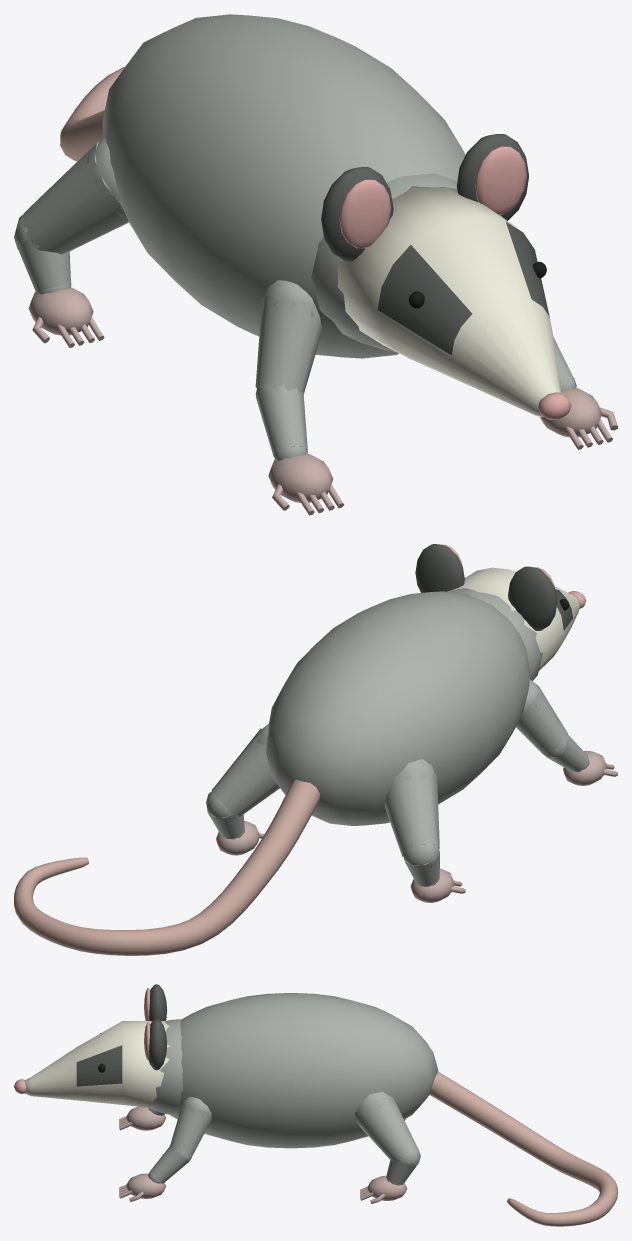
File: opossum.glb
The picture shows the model from 3 angles, top to bottom: view 1: azimuth 30°, elevation 25°; view 2: azimuth 150°, elevation 25°; view 3: azimuth 270°, elevation 25°; orthographic projection. The views are drawn at different scales.
Parts seen in each view (by area): view 1: Opossum_Long_Gray_Body, Opossum_Closed_Pointed_Pale_Head, Opossum_Rear_Leg_-1_Segment_0, Opossum_Front_Leg_-1_Segment_0, Opossum_Connected_Gray_Neck, Opossum_Pink_Inner_Ear_-1, Opossum_Pink_Inner_Ear_1, Opossum_Front_Leg_-1_Segment_1, Opossum_Long_Bare_Curved_Tail, Opossum_Dark_Round_Ear_-1, Opossum_Front_Paw_-1_Palm, Opossum_Rear_Paw_-1_Palm (+6 smaller); view 2: Opossum_Long_Gray_Body, Opossum_Long_Bare_Curved_Tail, Opossum_Rear_Leg_-1_Segment_0, Opossum_Rear_Leg_1_Segment_0, Opossum_Closed_Pointed_Pale_Head, Opossum_Dark_Round_Ear_-1, Opossum_Dark_Round_Ear_1, Opossum_Front_Leg_-1_Segment_0, Opossum_Connected_Gray_Neck, Opossum_Rear_Paw_1_Palm, Opossum_Rear_Paw_-1_Palm, Opossum_Front_Paw_-1_Palm (+4 smaller); view 3: Opossum_Long_Gray_Body, Opossum_Closed_Pointed_Pale_Head, Opossum_Long_Bare_Curved_Tail, Opossum_Rear_Leg_1_Segment_0, Opossum_Connected_Gray_Neck, Opossum_Front_Leg_1_Segment_0, Opossum_Dark_Round_Ear_1, Opossum_Front_Leg_1_Segment_1, Opossum_Front_Paw_-1_Palm, Opossum_Front_Paw_1_Palm, Opossum_Rear_Paw_1_Palm, Opossum_Dark_Round_Ear_-1 (+2 smaller).
Part boxes in pixels (x1=…): Opossum_Long_Gray_Body: x1=102, y1=14, x2=465, y2=358; Opossum_Closed_Pointed_Pale_Head: x1=337, y1=186, x2=561, y2=416; Opossum_Rear_Leg_-1_Segment_0: x1=22, y1=142, x2=128, y2=254; Opossum_Front_Leg_-1_Segment_0: x1=255, y1=296, x2=322, y2=394; Opossum_Connected_Gray_Neck: x1=311, y1=173, x2=457, y2=351; Opossum_Pink_Inner_Ear_-1: x1=339, y1=179, x2=391, y2=248; Opossum_Pink_Inner_Ear_1: x1=475, y1=146, x2=526, y2=215; Opossum_Front_Leg_-1_Segment_1: x1=256, y1=384, x2=307, y2=456; Opossum_Long_Bare_Curved_Tail: x1=60, y1=67, x2=124, y2=161; Opossum_Dark_Round_Ear_-1: x1=321, y1=167, x2=393, y2=261; Opossum_Front_Paw_-1_Palm: x1=268, y1=453, x2=333, y2=502; Opossum_Rear_Paw_-1_Palm: x1=28, y1=287, x2=93, y2=335; Opossum_Long_Gray_Body: x1=266, y1=591, x2=530, y2=825; Opossum_Long_Bare_Curved_Tail: x1=14, y1=779, x2=319, y2=955; Opossum_Rear_Leg_-1_Segment_0: x1=385, y1=768, x2=439, y2=856; Opossum_Rear_Leg_1_Segment_0: x1=211, y1=728, x2=279, y2=816; Opossum_Closed_Pointed_Pale_Head: x1=447, y1=567, x2=579, y2=670; Opossum_Dark_Round_Ear_-1: x1=508, y1=566, x2=557, y2=630; Opossum_Dark_Round_Ear_1: x1=415, y1=544, x2=464, y2=592; Opossum_Front_Leg_-1_Segment_0: x1=516, y1=686, x2=567, y2=754; Opossum_Connected_Gray_Neck: x1=449, y1=588, x2=542, y2=680; Opossum_Rear_Paw_1_Palm: x1=216, y1=820, x2=259, y2=855; Opossum_Rear_Paw_-1_Palm: x1=410, y1=868, x2=454, y2=902; Opossum_Front_Paw_-1_Palm: x1=563, y1=750, x2=606, y2=785; Opossum_Long_Gray_Body: x1=169, y1=993, x2=438, y2=1148; Opossum_Closed_Pointed_Pale_Head: x1=24, y1=1021, x2=169, y2=1107; Opossum_Long_Bare_Curved_Tail: x1=429, y1=1072, x2=617, y2=1226; Opossum_Rear_Leg_1_Segment_0: x1=355, y1=1095, x2=417, y2=1161; Opossum_Connected_Gray_Neck: x1=148, y1=1019, x2=182, y2=1114; Opossum_Front_Leg_1_Segment_0: x1=169, y1=1103, x2=211, y2=1157; Opossum_Dark_Round_Ear_1: x1=148, y1=1019, x2=167, y2=1070; Opossum_Front_Leg_1_Segment_1: x1=150, y1=1146, x2=189, y2=1183; Opossum_Front_Paw_-1_Palm: x1=126, y1=1106, x2=165, y2=1130; Opossum_Front_Paw_1_Palm: x1=126, y1=1173, x2=166, y2=1198; Opossum_Rear_Paw_1_Palm: x1=367, y1=1175, x2=407, y2=1200; Opossum_Dark_Round_Ear_-1: x1=149, y1=984, x2=167, y2=1021.
Size of the model in its own units: 0.4126 by 0.255 by 0.8594.
